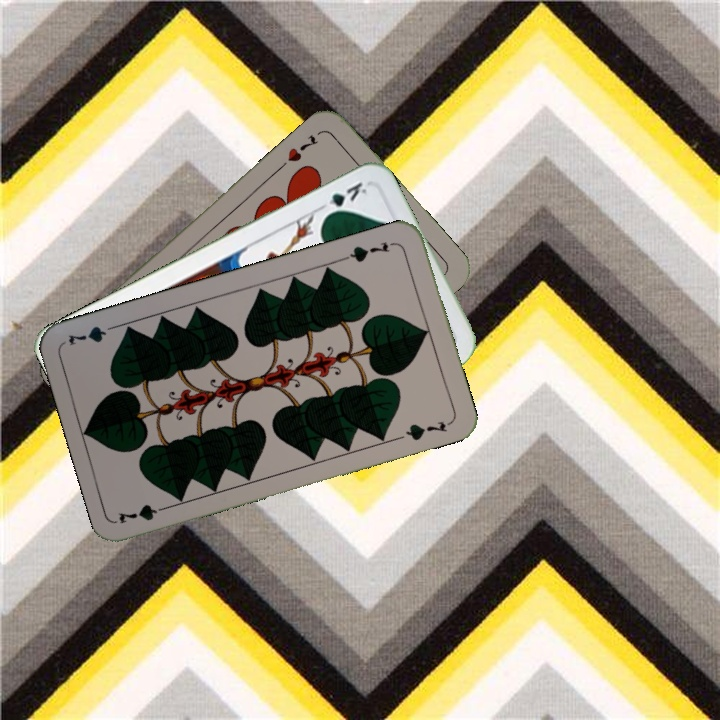G7: (340, 237, 399, 265), (114, 500, 174, 527)
GK: (314, 177, 370, 220)
H7: (283, 130, 322, 165)
